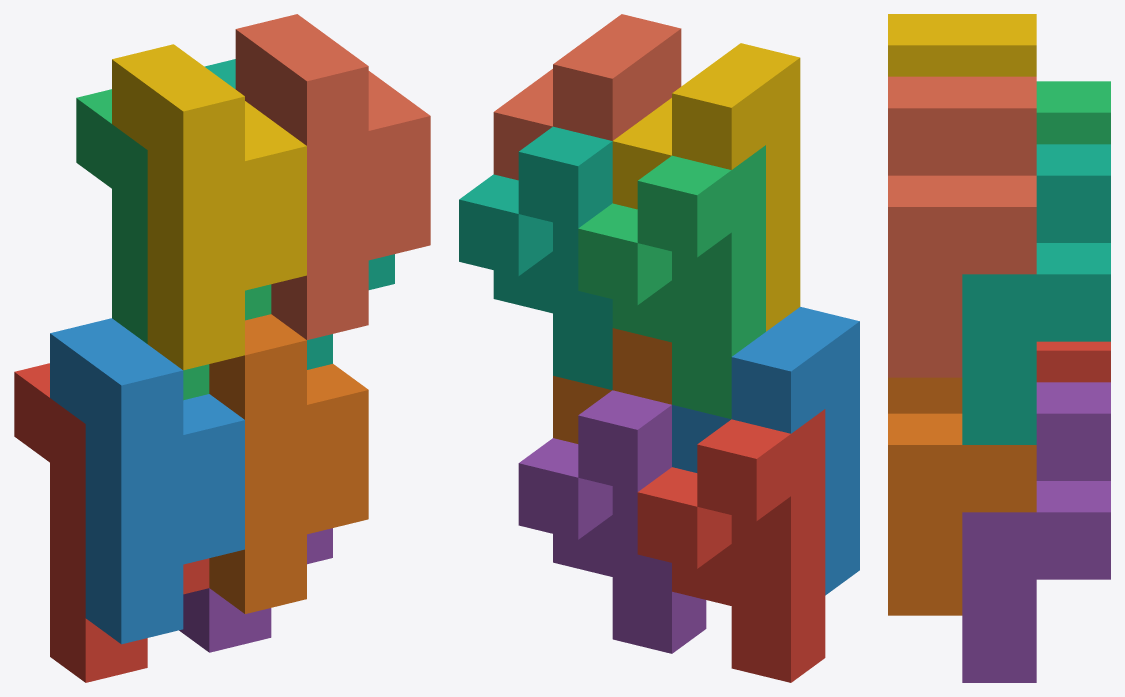
The model's file is tiling.obj.
The picture shows the model from 3 angles, left to right: view 1: azimuth 30°, elevation 25°; view 2: azimuth 150°, elevation 25°; view 3: azimuth 270°, elevation 25°; orthographic projection. The views are drawn at different scales.
Visible parts, largest first — view 1: copy_1_domain_4, copy_1_domain_2, copy_1_domain_8, copy_1_domain_6, copy_1_domain_1, copy_1_domain_3, copy_1_domain_5, copy_1_domain_7; view 2: copy_1_domain_1, copy_1_domain_3, copy_1_domain_5, copy_1_domain_7, copy_1_domain_4, copy_1_domain_2, copy_1_domain_8, copy_1_domain_6; view 3: copy_1_domain_8, copy_1_domain_5, copy_1_domain_7, copy_1_domain_6, copy_1_domain_4, copy_1_domain_3, copy_1_domain_1.
Part boxes in pixels (left/top/right/bottom): copy_1_domain_4: left=112, top=44, right=306, bottom=370; copy_1_domain_2: left=50, top=318, right=244, bottom=644; copy_1_domain_8: left=235, top=14, right=430, bottom=339; copy_1_domain_6: left=209, top=314, right=368, bottom=613; copy_1_domain_1: left=14, top=363, right=209, bottom=682; copy_1_domain_3: left=76, top=89, right=271, bottom=400; copy_1_domain_5: left=179, top=528, right=332, bottom=652; copy_1_domain_7: left=204, top=59, right=394, bottom=369; copy_1_domain_1: left=637, top=409, right=825, bottom=682; copy_1_domain_3: left=578, top=145, right=765, bottom=419; copy_1_domain_5: left=518, top=390, right=706, bottom=653; copy_1_domain_7: left=459, top=126, right=612, bottom=390; copy_1_domain_4: left=612, top=43, right=800, bottom=331; copy_1_domain_2: left=672, top=307, right=859, bottom=595; copy_1_domain_8: left=493, top=14, right=681, bottom=180; copy_1_domain_6: left=553, top=328, right=671, bottom=443; copy_1_domain_8: left=888, top=76, right=1036, bottom=377; copy_1_domain_5: left=962, top=382, right=1110, bottom=682; copy_1_domain_7: left=962, top=144, right=1110, bottom=444; copy_1_domain_6: left=888, top=377, right=1036, bottom=615; copy_1_domain_4: left=888, top=14, right=1036, bottom=76; copy_1_domain_3: left=1036, top=81, right=1110, bottom=144; copy_1_domain_1: left=1036, top=341, right=1110, bottom=382.
Size of the model in its own units: 5 by 9 by 3.
